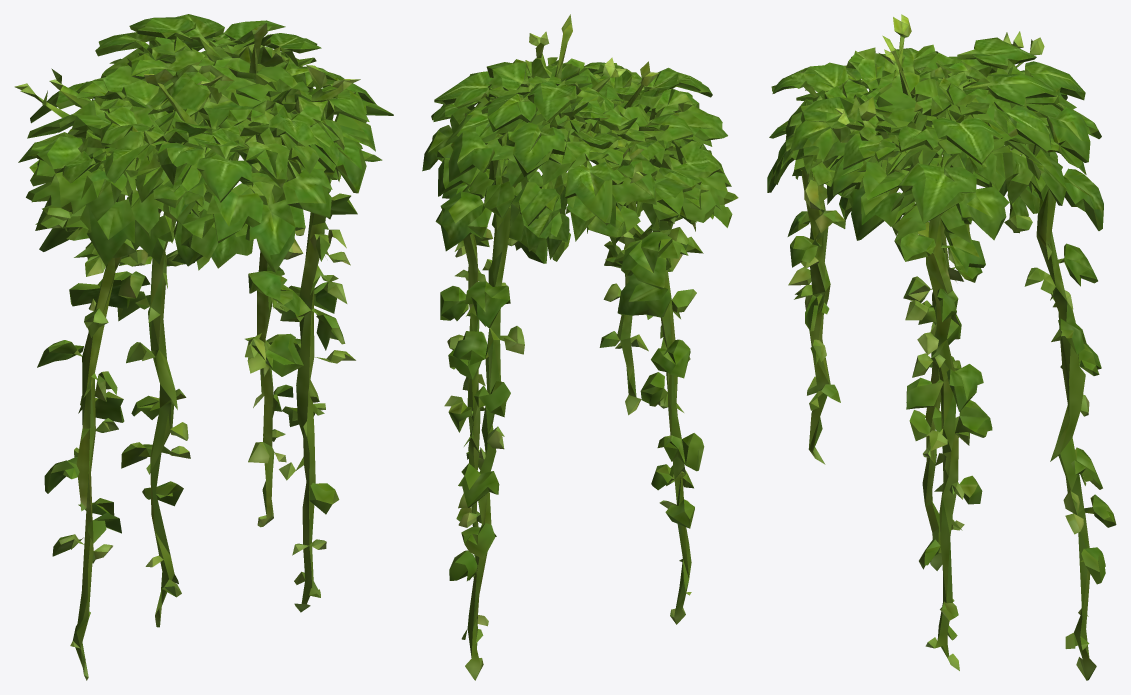
The model's file is emerald-cascade-gpu.glb.
The picture shows the model from 3 angles, left to right: view 1: azimuth 30°, elevation 25°; view 2: azimuth 150°, elevation 25°; view 3: azimuth 270°, elevation 25°; orthographic projection. The views are drawn at different scales.
Parts seen in each view (by area): view 1: output_unwrapped; view 2: output_unwrapped; view 3: output_unwrapped.
Boxes of the visible parts, left/top/right/bottom form: output_unwrapped: left=14, top=14, right=393, bottom=680; output_unwrapped: left=422, top=14, right=738, bottom=680; output_unwrapped: left=767, top=14, right=1116, bottom=680.
Bounding box in the file's own units: 0.9953 × 1.91 × 0.9369.
Materials: 1 (1 with a texture image).
